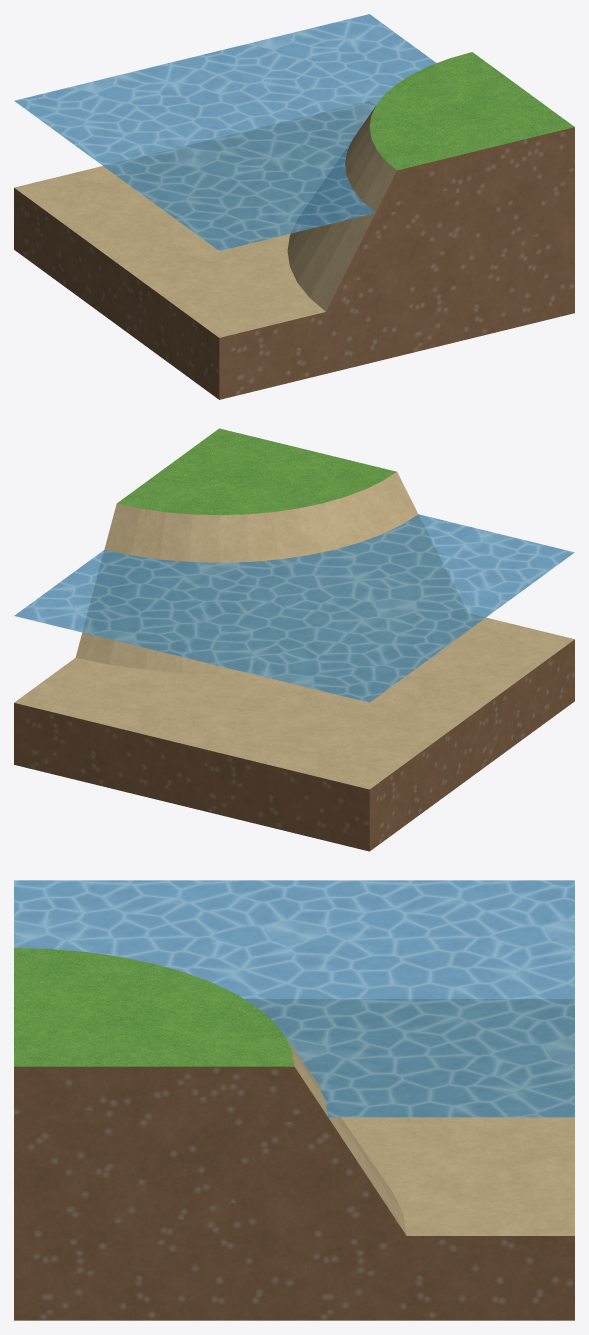
Rendered from Water_InnerCorner_H.fbx.
3 views of the same model, one above another, from view 1: azimuth 30°, elevation 25°; view 2: azimuth 150°, elevation 25°; view 3: azimuth 270°, elevation 25° (orthographic). The views are drawn at different scales.
Visible parts, largest first — view 1: Water_InnerCorner_H, Water_InnerCorner_H_Water; view 2: Water_InnerCorner_H, Water_InnerCorner_H_Water; view 3: Water_InnerCorner_H, Water_InnerCorner_H_Water.
Boxes of the visible parts, bbox=[...] form: Water_InnerCorner_H: bbox=[14, 52, 574, 399]; Water_InnerCorner_H_Water: bbox=[14, 14, 436, 250]; Water_InnerCorner_H: bbox=[14, 428, 574, 851]; Water_InnerCorner_H_Water: bbox=[14, 514, 574, 702]; Water_InnerCorner_H: bbox=[14, 948, 574, 1320]; Water_InnerCorner_H_Water: bbox=[14, 880, 574, 1117].
Size of the model in its own units: 3 by 1.5 by 3.
4 materials, 4 textured.
